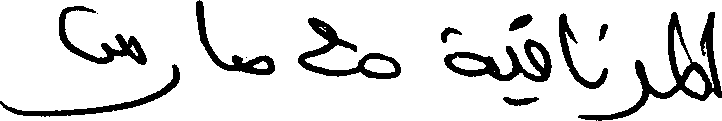0: (359, 50, 401, 78)
2: (297, 15, 360, 77)
ا: (194, 0, 215, 66), (556, 10, 577, 76), (709, 9, 720, 97)
ة: (443, 24, 491, 77)
ر: (140, 45, 179, 105), (617, 57, 649, 119)
س: (59, 3, 142, 63)
ق: (524, 11, 549, 85)
ل: (665, 9, 681, 75)
م: (667, 62, 708, 105), (244, 52, 274, 75)
ن: (594, 22, 607, 94)
ي: (501, 42, 529, 106)
